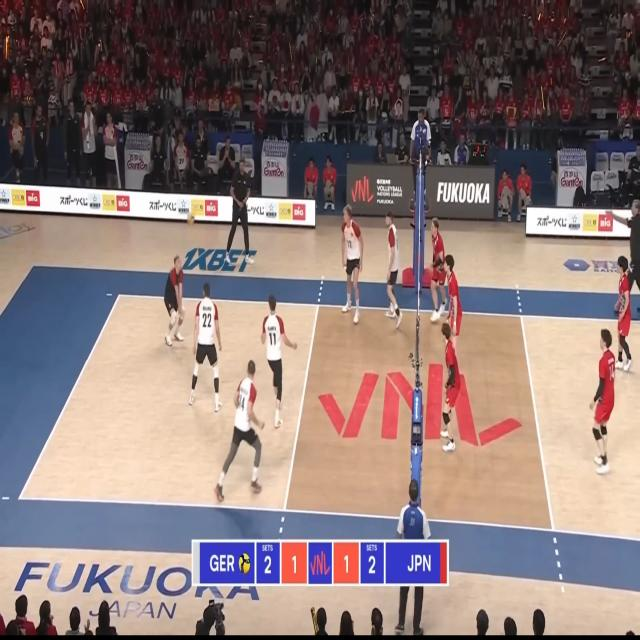ball: (187, 212, 195, 227)
